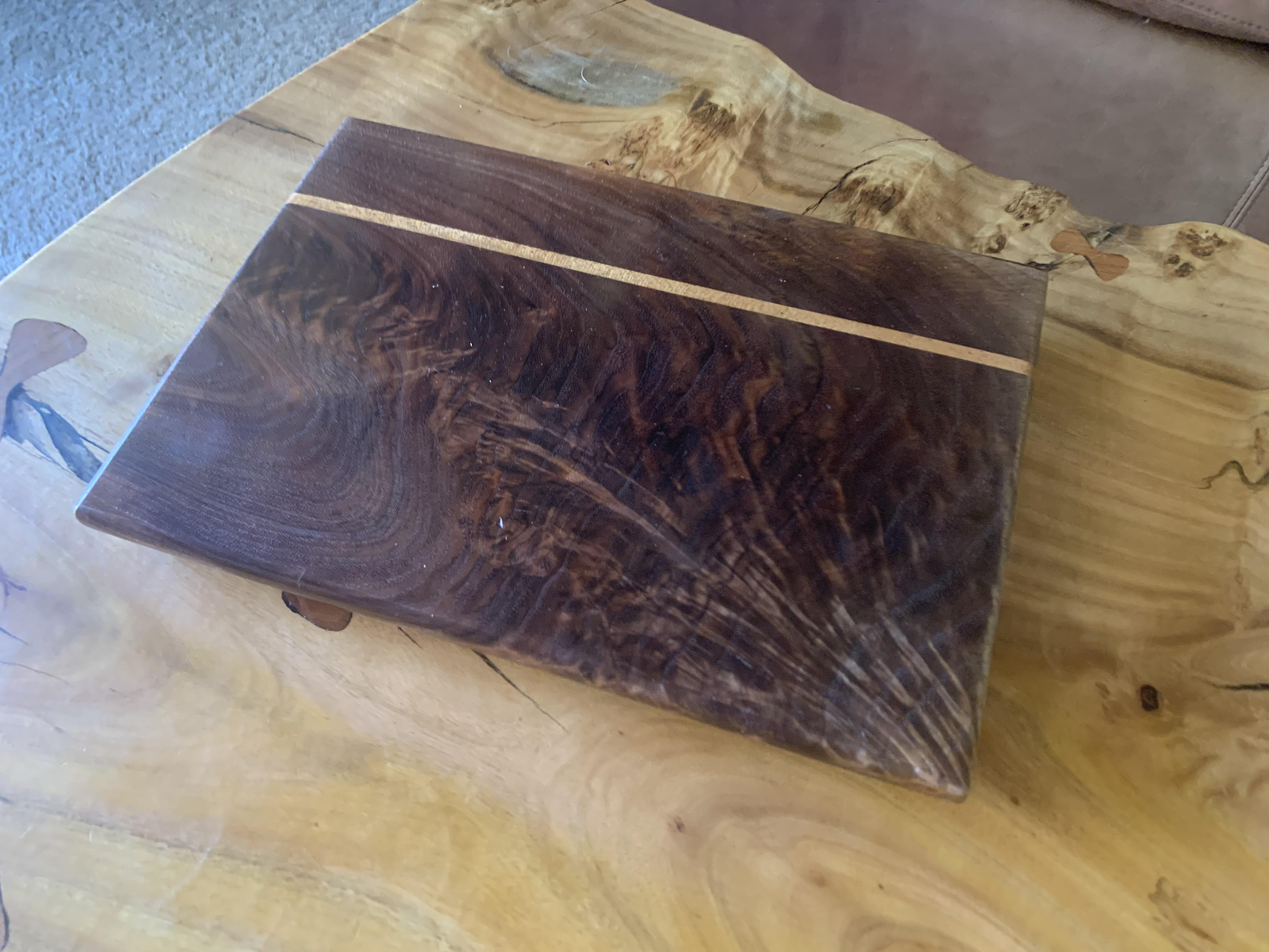gloved_hand: (142, 60, 857, 952)
